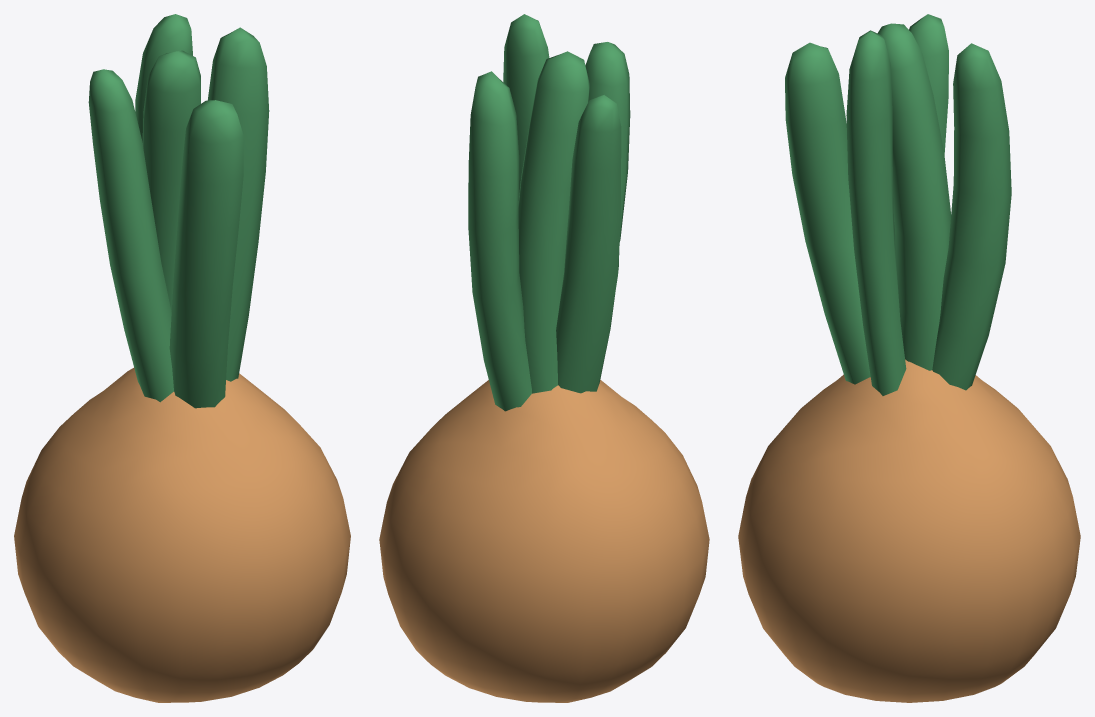
Rendered from Onion_02.dae.
3 renders of one model, left to right at view 1: azimuth 30°, elevation 25°; view 2: azimuth 150°, elevation 25°; view 3: azimuth 270°, elevation 25°, orthographic. The views are drawn at different scales.
Visible parts, largest first — view 1: Onion_02_LOD0; view 2: Onion_02_LOD0; view 3: Onion_02_LOD0.
Part boxes in pixels (<box>): Onion_02_LOD0: <box>14,14,350,702</box>; Onion_02_LOD0: <box>379,14,709,702</box>; Onion_02_LOD0: <box>738,14,1080,702</box>.
Size of what is drawn, in the model's own units: 3.47 by 3.49 by 7.51.
